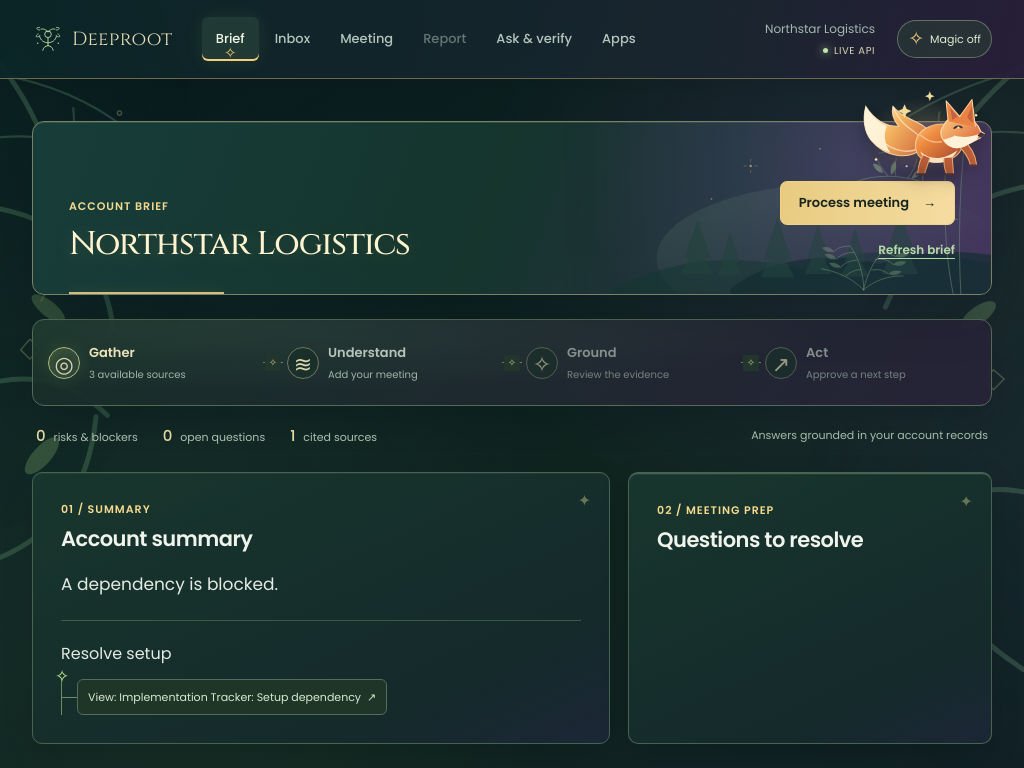
live workspace regressions › opens internal-source evidence supplied by a brief
expect the heading "Northstar Logistics" is shown: met, box [69, 225, 410, 264]
Click the button "View: Implementation Tracker: Setup dependency ↗": (232, 697) [77, 679, 387, 715]
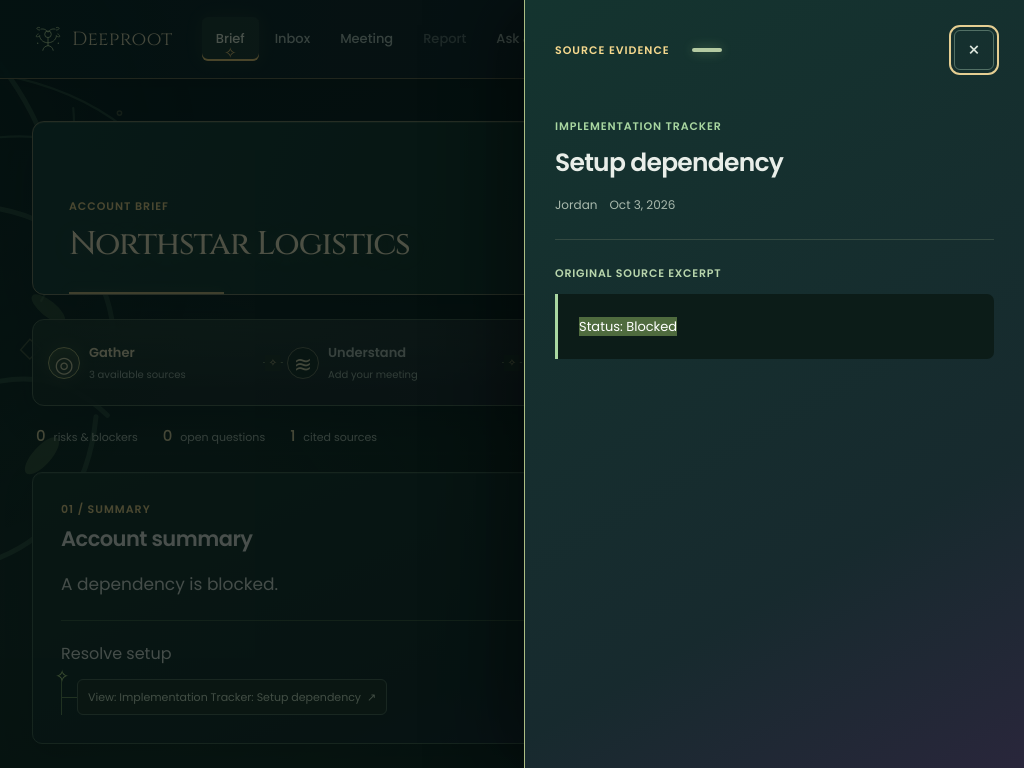
expect the heading "Setup dependency" is shown: met, box [555, 145, 783, 180]
expect the text "Status: Blocked" is shown: met, box [579, 316, 677, 336]
